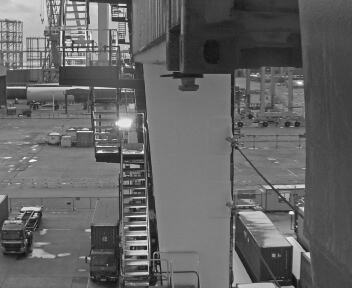twist_lock_1: (168, 67, 208, 102)
